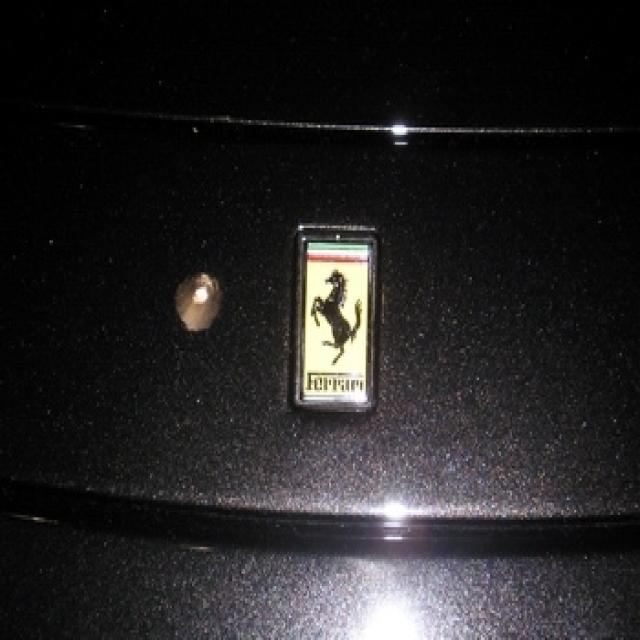ferrari: (299, 241, 370, 403)
